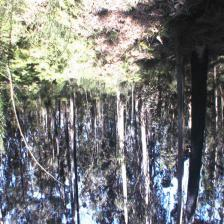trunktrack_idkeyframe: (189, 53, 209, 180), (176, 66, 183, 146)
